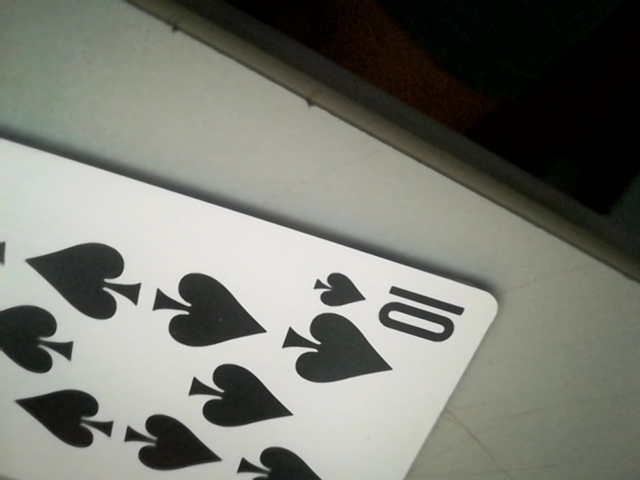ht 10: (304, 267, 478, 338)
